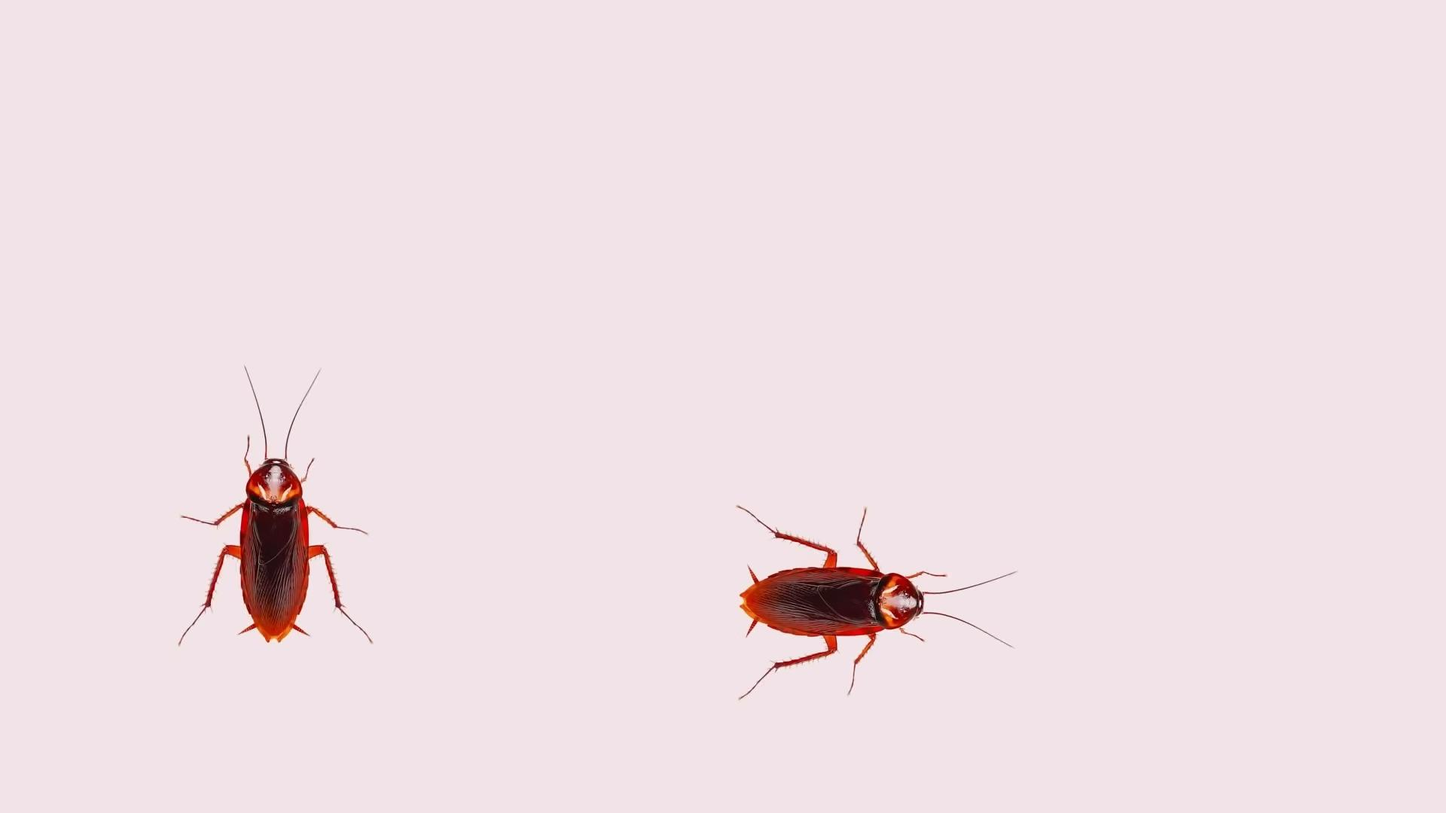cockroach: (699, 488, 1020, 718), (156, 370, 375, 664)
